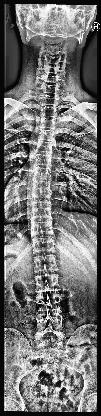Vertebrae: (35, 314, 65, 336), (35, 293, 63, 315), (32, 254, 60, 274), (34, 273, 62, 293), (32, 235, 57, 255), (30, 220, 56, 236), (30, 206, 54, 221), (32, 192, 52, 208), (37, 128, 57, 142), (33, 178, 53, 192), (38, 116, 57, 130), (33, 166, 52, 180), (38, 106, 60, 118), (36, 140, 54, 154), (35, 153, 53, 167), (40, 94, 60, 106)
